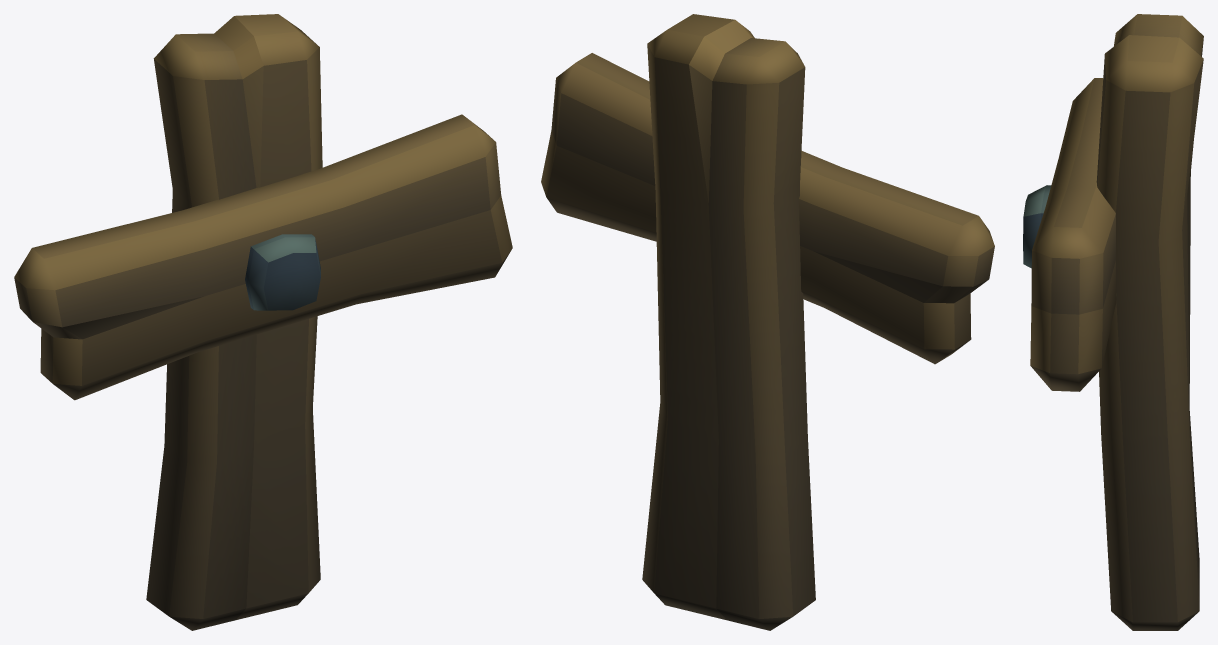
The model's file is cross_wood_LOD_setup.fbx.
The picture shows the model from 3 angles, left to right: view 1: azimuth 30°, elevation 25°; view 2: azimuth 150°, elevation 25°; view 3: azimuth 270°, elevation 25°; orthographic projection.
Parts seen in each view (by area): view 1: cross_wood_LOD0; view 2: cross_wood_LOD0; view 3: cross_wood_LOD0.
Boxes of the visible parts, x1,y1,x2,y2 form: cross_wood_LOD0: (14,14,512,630); cross_wood_LOD0: (541,14,994,630); cross_wood_LOD0: (1023,14,1203,630).
Size of what is drawn, in the model's own units: 97.61 by 117 by 33.31.
